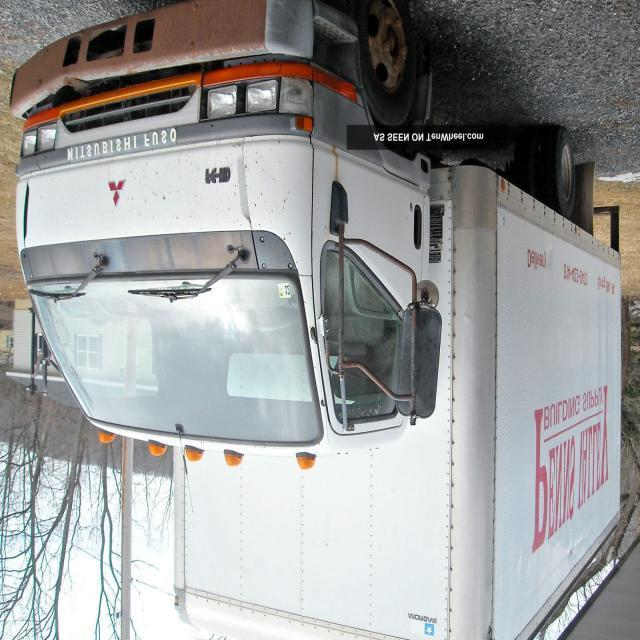truck: (0, 1, 624, 637)
